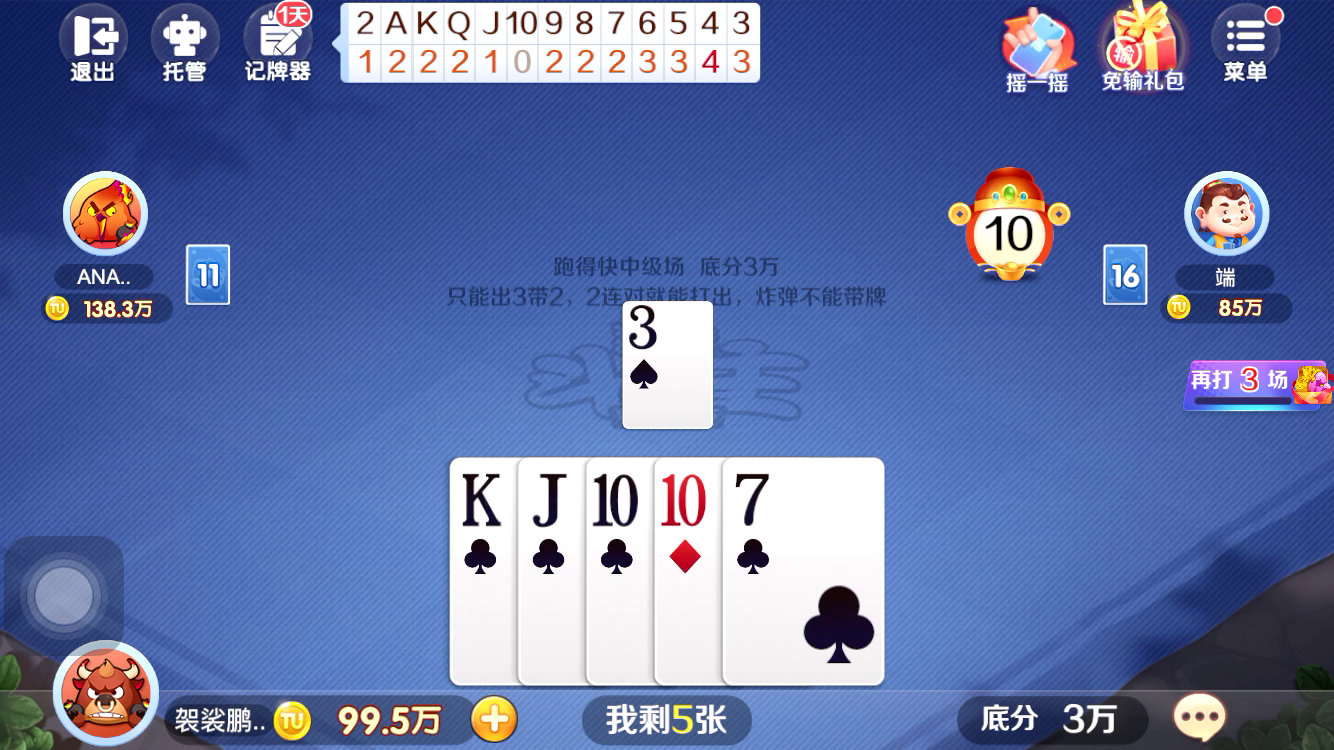J: (523, 465, 574, 538)
K: (455, 462, 512, 537)
seven: (725, 462, 781, 538)
ten: (656, 464, 715, 537), (588, 467, 644, 539)
three: (623, 302, 670, 360)
